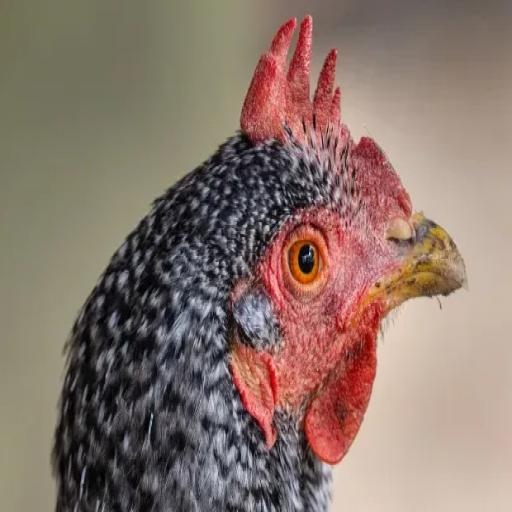healthy: (253, 122, 378, 356)
